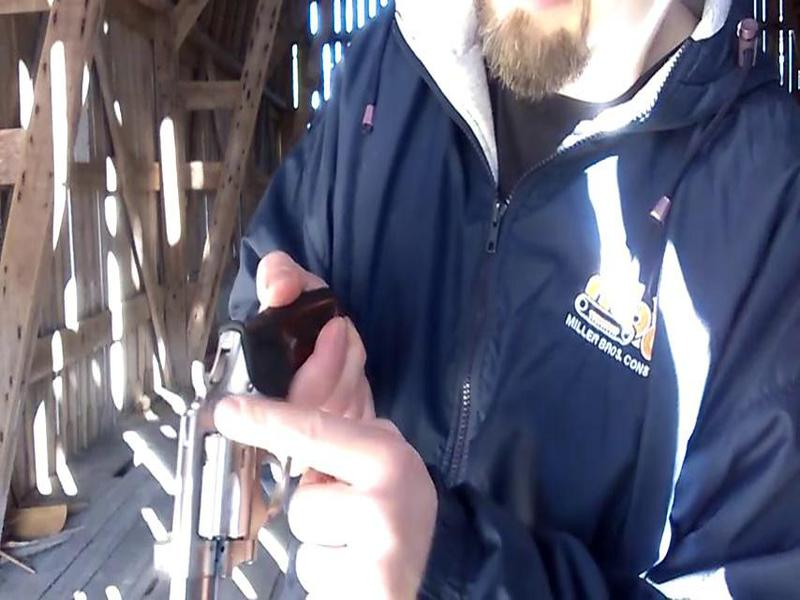Revolver: (155, 308, 419, 600)
